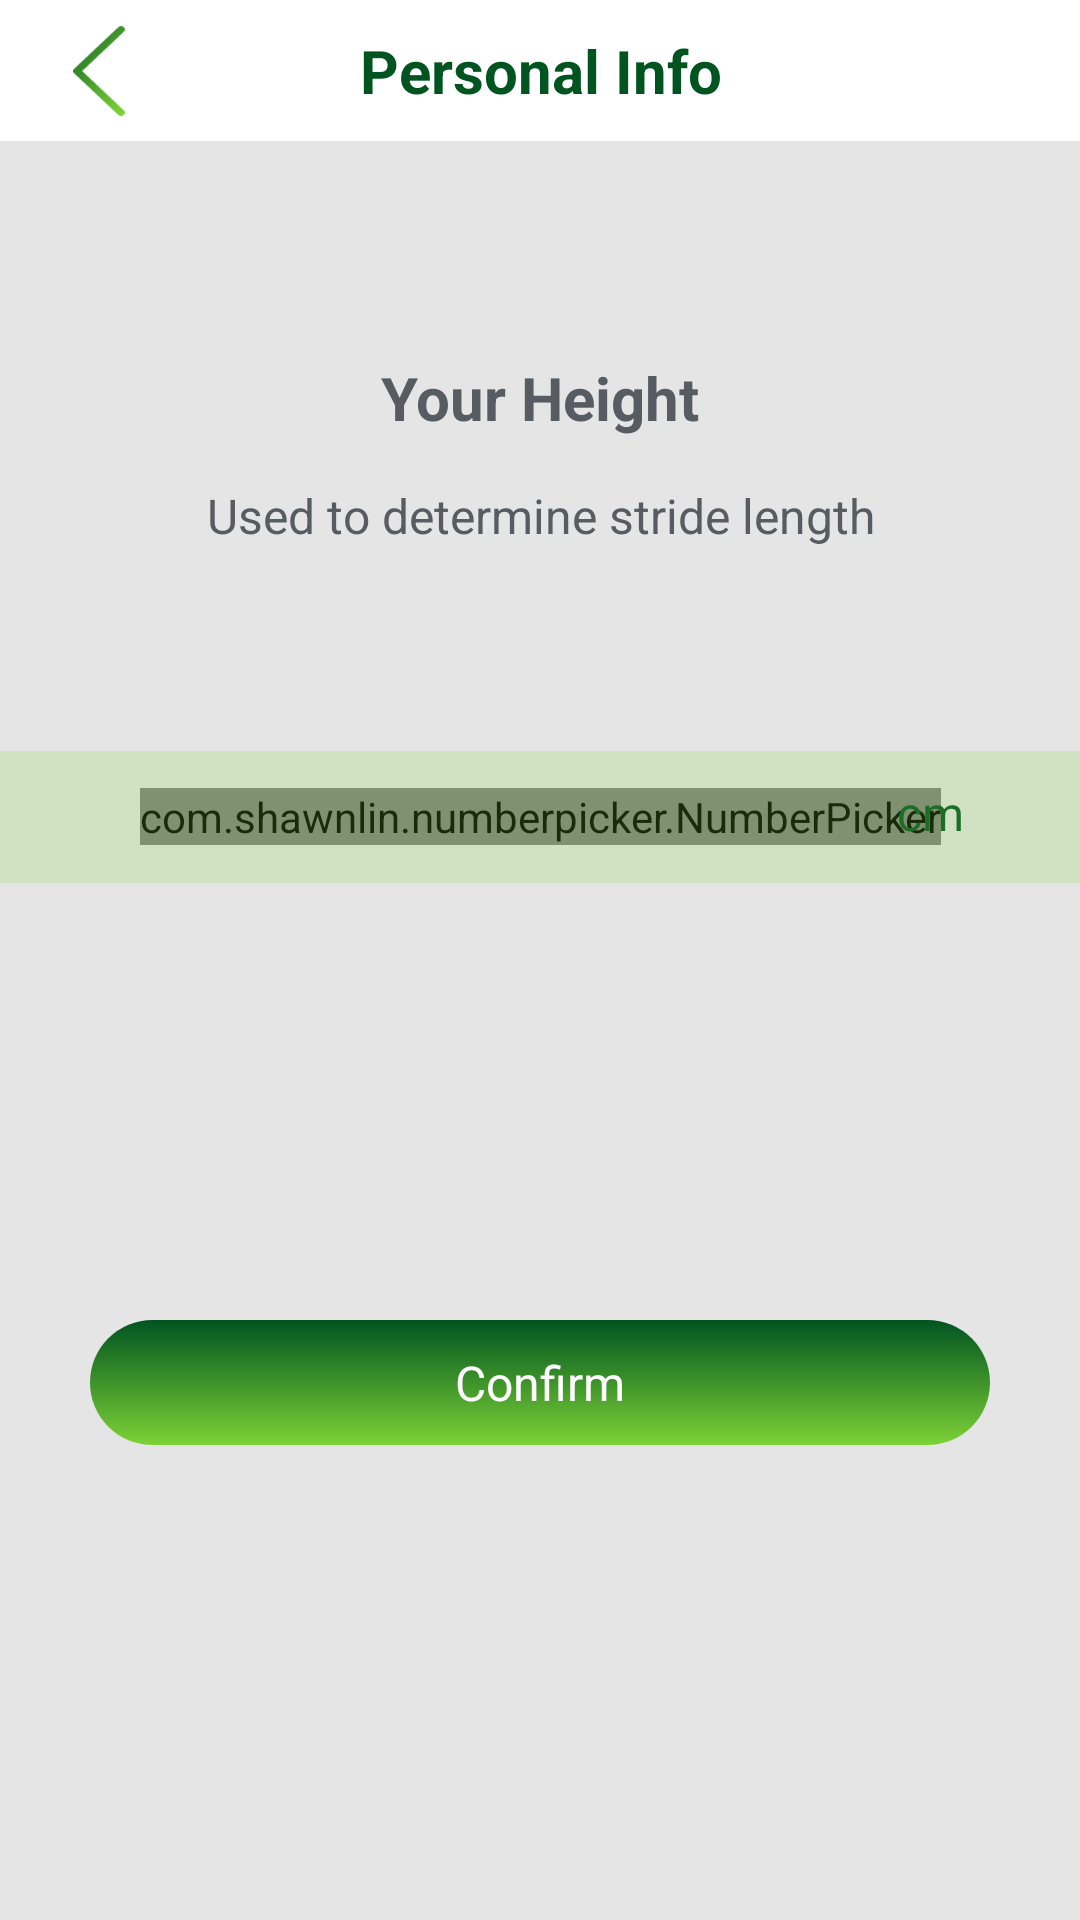

Point at icon controls on the screen. Image size 1080×1920, points as [x,y].
back: [99,71]
